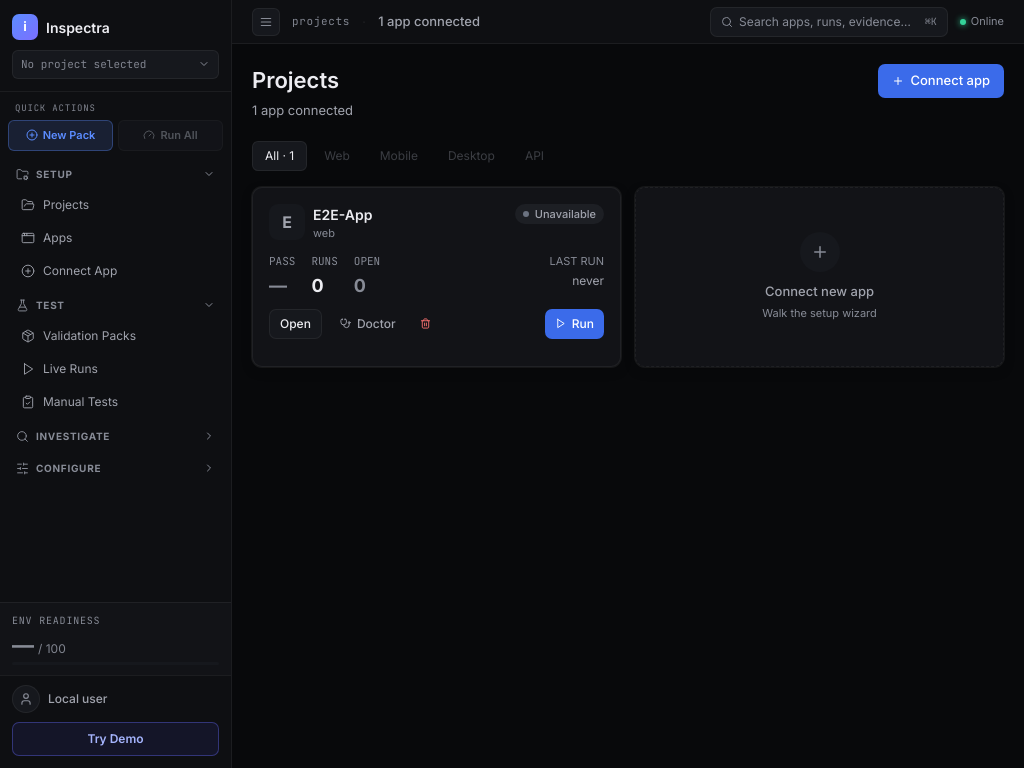
Test: ProjectsPage — delete app › shows error banner when delete fails
This screenshot has width=1024, height=768.
Check: the button "Open" is shown, box [269,308,322,338]
What coordinates should you click on to do the following:
click the button with test id "remove-app-app-1"
I would click on:
 (425, 324)
Its box is [414,308,437,338].
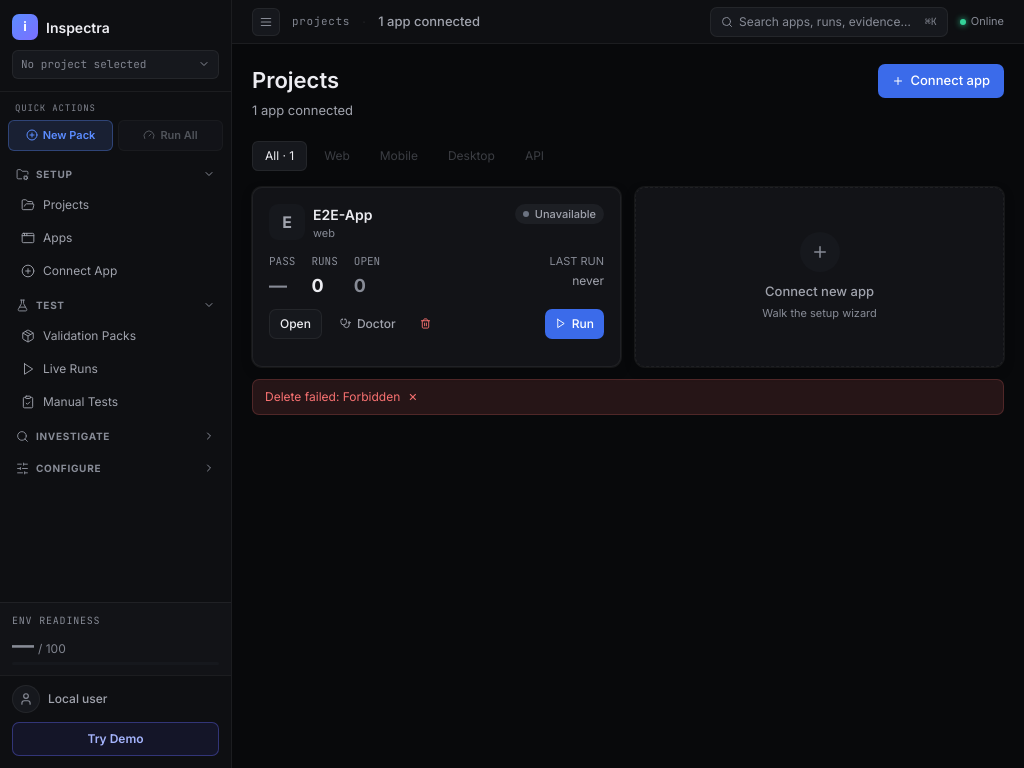
Check: the text "Delete failed: Forbidden ✕" is shown, box [252,378,1004,414]
